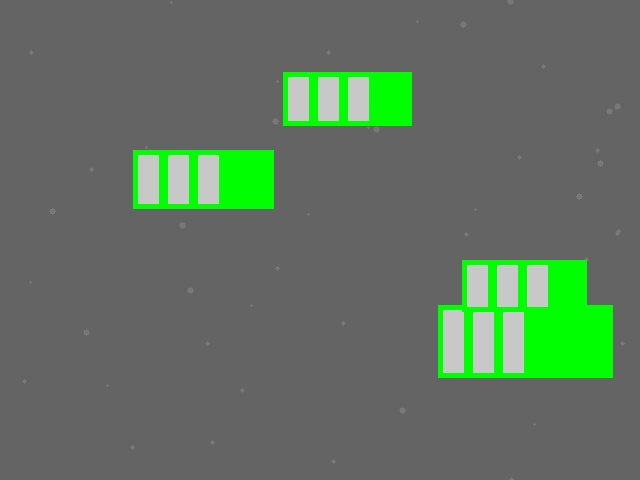bus: (438, 305, 612, 377), (133, 150, 273, 208), (283, 72, 411, 125), (462, 260, 586, 311)
